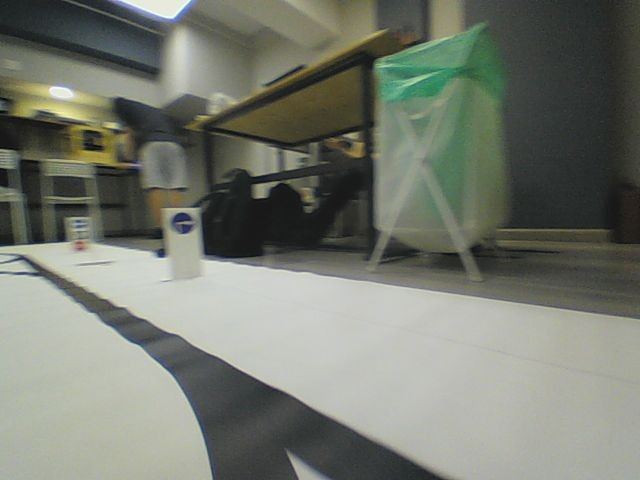Right: (171, 211, 196, 237)
